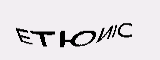И: (37, 19, 54, 39)
Н: (100, 10, 122, 36)
Р: (88, 14, 100, 38)
С: (75, 16, 88, 40)
Щ: (54, 18, 75, 42)
